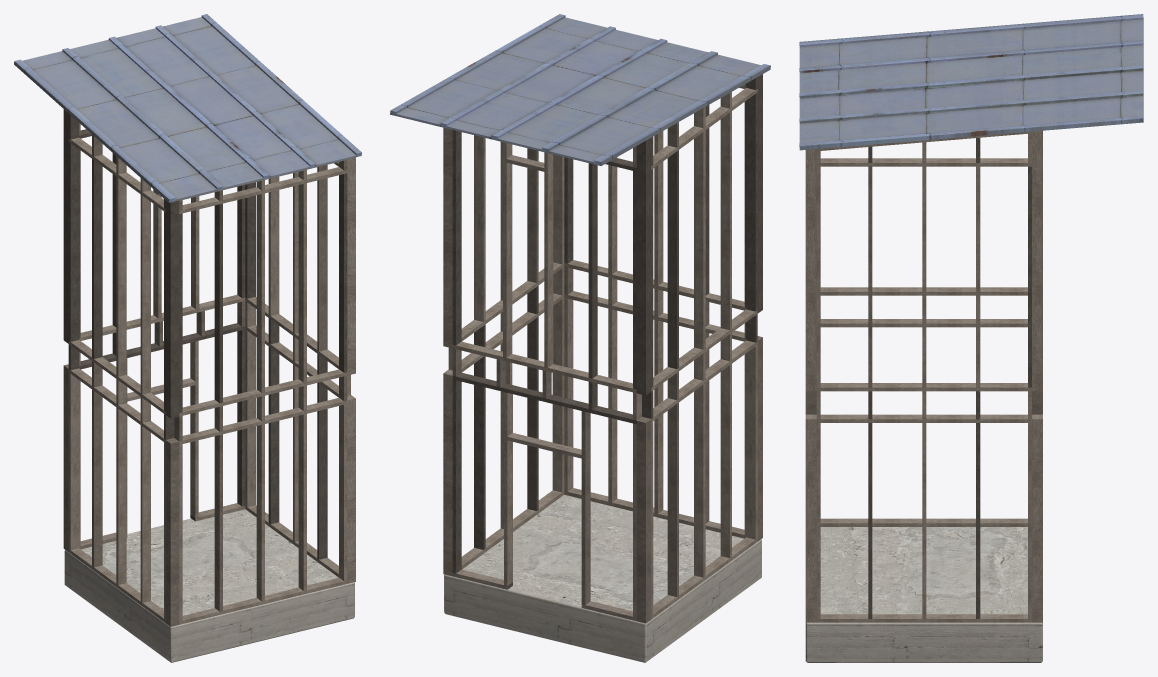
Rendered from OuthouseFoundation.fbx.
3 renders of one model, left to right at view 1: azimuth 30°, elevation 25°; view 2: azimuth 150°, elevation 25°; view 3: azimuth 270°, elevation 25°, orthographic. The views are drawn at different scales.
Visible parts, largest first — view 1: OuthouseFoundation; view 2: OuthouseFoundation; view 3: OuthouseFoundation.
Part boxes in pixels (left/top/right/bottom): OuthouseFoundation: left=14, top=14, right=361, bottom=662; OuthouseFoundation: left=390, top=14, right=770, bottom=662; OuthouseFoundation: left=799, top=14, right=1143, bottom=662.
Bounding box in the file's own units: 358 × 874 × 498.
